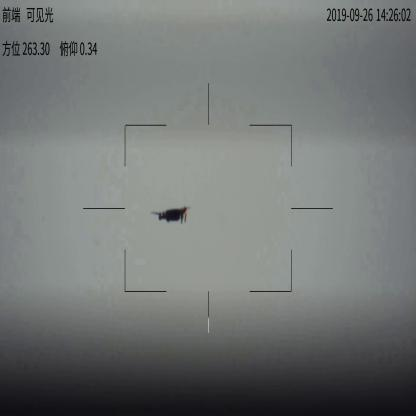uav: (150, 206, 192, 226)
